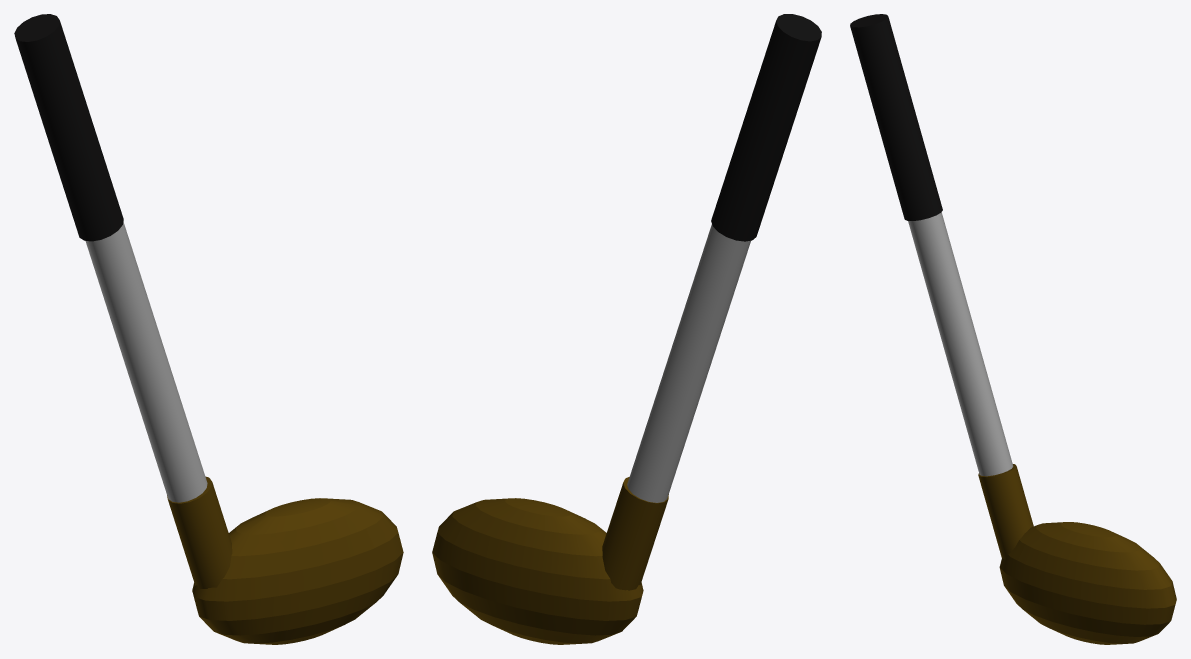
Rendered from woodenClub.fbx.
3 views of the same model, side by side, from view 1: azimuth 30°, elevation 25°; view 2: azimuth 150°, elevation 25°; view 3: azimuth 330°, elevation 25° (orthographic). The views are drawn at different scales.
Parts seen in each view (by area): view 1: group2_pasted__group_pasted__pasted__pCylinder1; view 2: group2_pasted__group_pasted__pasted__pCylinder1; view 3: group2_pasted__group_pasted__pasted__pCylinder1.
Part boxes in pixels (x1,y1,x2,y2): group2_pasted__group_pasted__pasted__pCylinder1: (14, 14, 403, 644); group2_pasted__group_pasted__pasted__pCylinder1: (432, 14, 821, 644); group2_pasted__group_pasted__pasted__pCylinder1: (850, 14, 1176, 644).
Size of the model in its own units: 2.25 by 3.8 by 0.4482.
